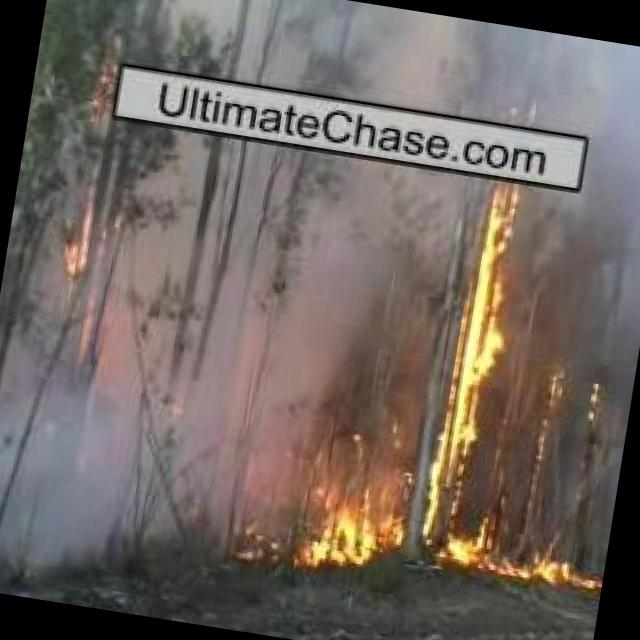Fire: (295, 462, 614, 609), (441, 173, 532, 470), (41, 180, 109, 302), (527, 370, 567, 493), (85, 49, 128, 120)
Smoke: (11, 113, 640, 602), (116, 0, 640, 147)
